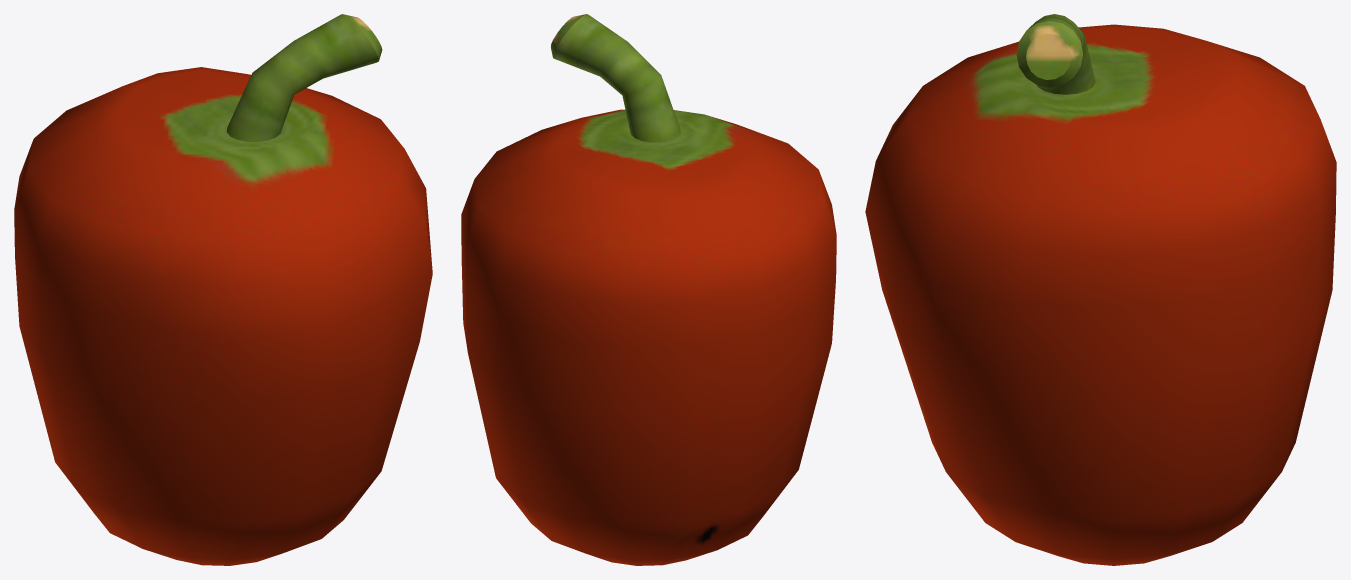
File: SM_配餐室_水果蔬菜_21.fbx
3 renders of one model, left to right at view 1: azimuth 30°, elevation 25°; view 2: azimuth 150°, elevation 25°; view 3: azimuth 270°, elevation 25°, orthographic. The views are drawn at different scales.
Parts seen in each view (by area): view 1: SM_配餐室_水果蔬菜_21; view 2: SM_配餐室_水果蔬菜_21; view 3: SM_配餐室_水果蔬菜_21.
Boxes of the visible parts, box(x1,y1,x2,y2) form: SM_配餐室_水果蔬菜_21: box(14, 14, 432, 565); SM_配餐室_水果蔬菜_21: box(461, 14, 836, 565); SM_配餐室_水果蔬菜_21: box(865, 14, 1336, 565).
Size of the model in its own units: 102 by 143 by 108.
